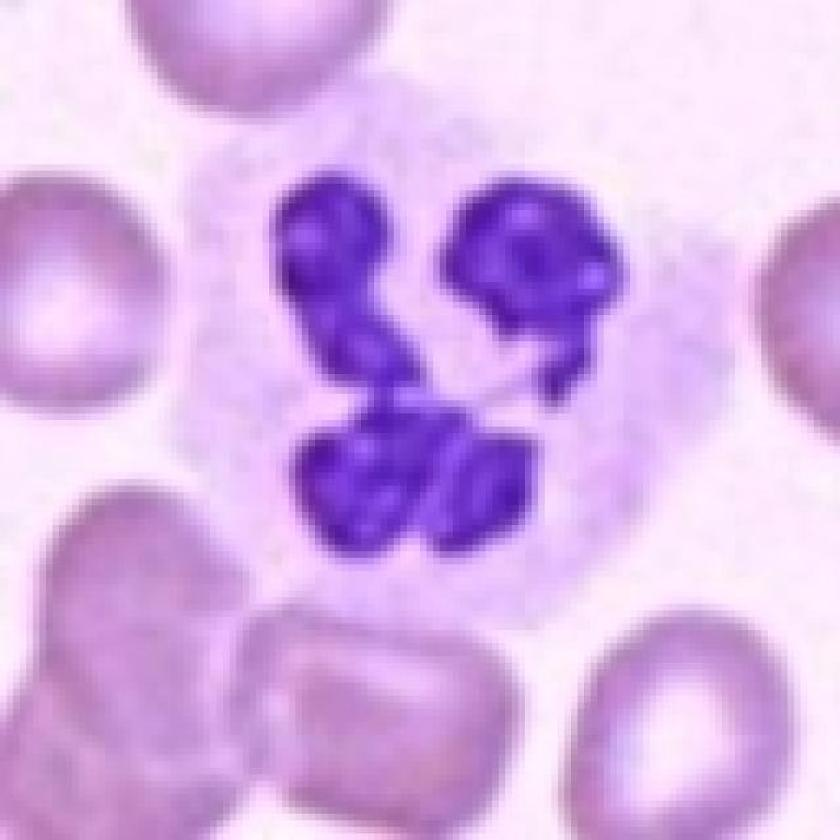neutrophil: (177, 72, 733, 628)
